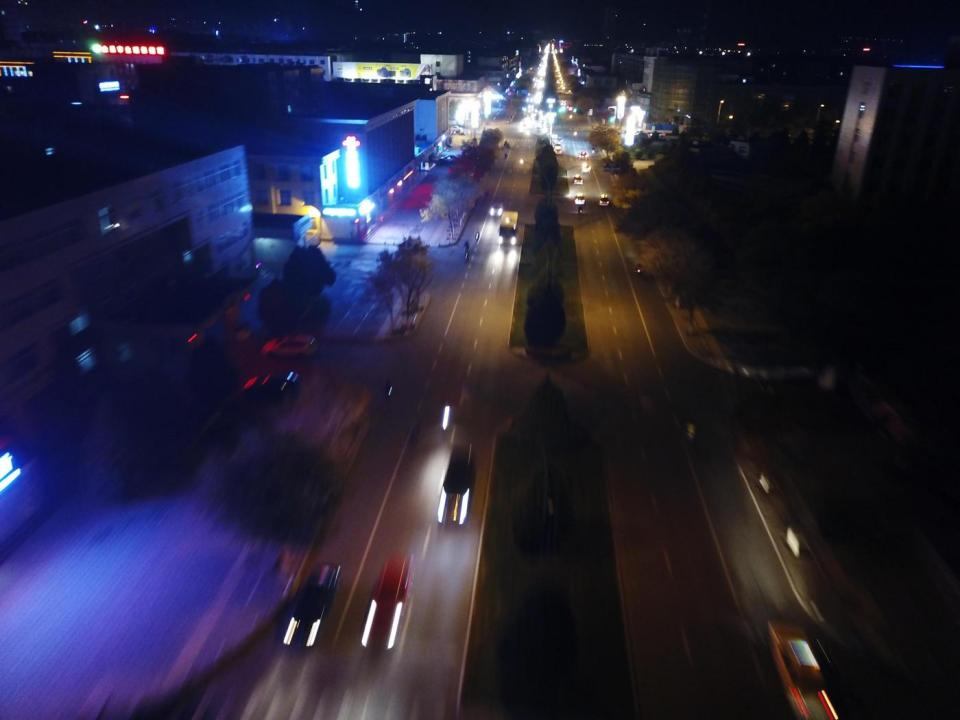car: (766, 620, 840, 720), (358, 553, 409, 648), (282, 562, 338, 648), (438, 445, 476, 525), (240, 370, 300, 399), (261, 336, 318, 354), (490, 202, 502, 217), (574, 193, 585, 204), (599, 194, 609, 205), (440, 155, 456, 161), (634, 133, 650, 139), (453, 130, 466, 137), (648, 131, 666, 136), (574, 174, 582, 185), (450, 124, 462, 131), (582, 164, 591, 172), (580, 151, 588, 159), (633, 130, 644, 134), (554, 138, 562, 143), (526, 95, 532, 101), (560, 99, 566, 104), (554, 144, 561, 148), (528, 103, 533, 108), (555, 149, 561, 153), (557, 88, 563, 92), (564, 90, 570, 94), (552, 132, 558, 136), (560, 85, 567, 88)
van: (499, 210, 517, 246)
